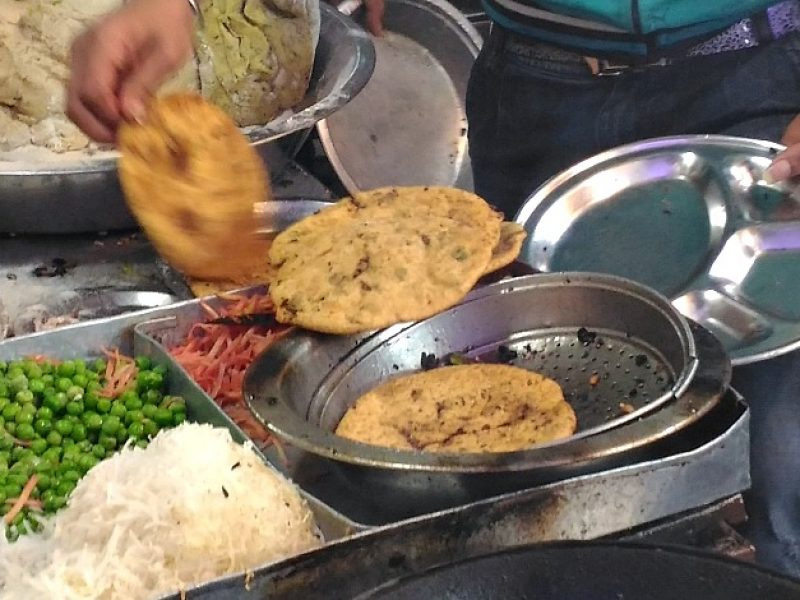aloo_paratha: (266, 184, 514, 323), (123, 102, 274, 281), (330, 365, 574, 457)
